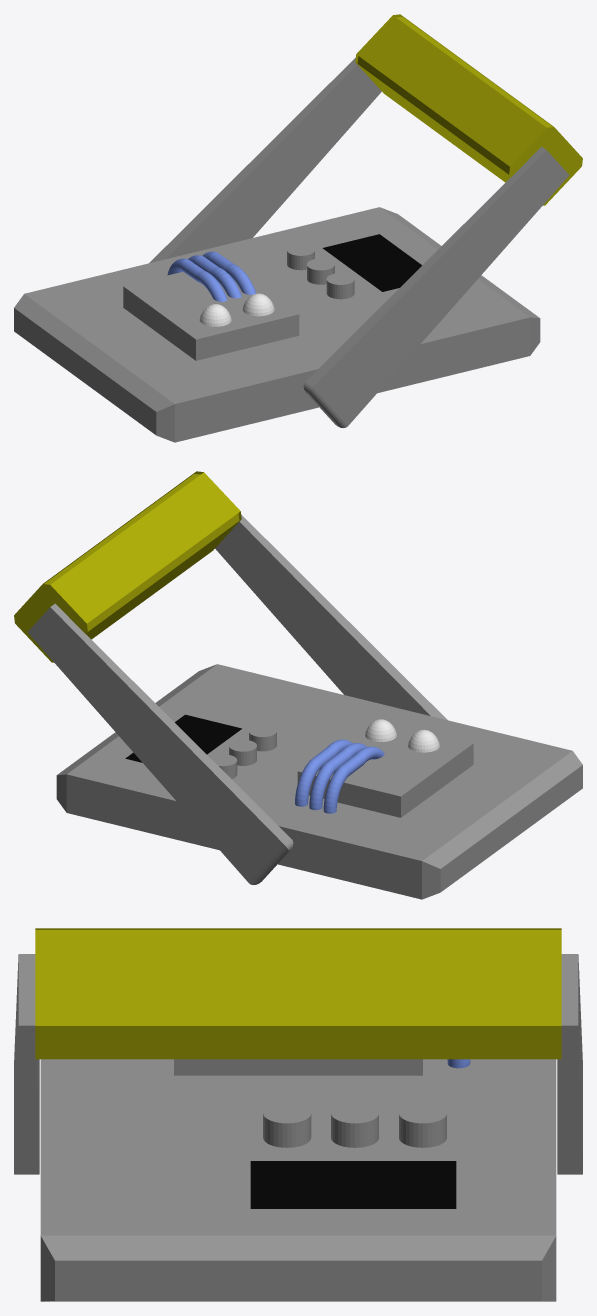
File: Lever2.fbx
3 views of the same model, one above another, from view 1: azimuth 30°, elevation 25°; view 2: azimuth 150°, elevation 25°; view 3: azimuth 270°, elevation 25° (orthographic). The views are drawn at different scales.
Parts seen in each view (by area): view 1: Lever2, Switch, ETC; view 2: Lever2, Switch, ETC; view 3: Lever2, Switch, ETC.
Part boxes in pixels (x1=…): Lever2: x1=14, y1=207, x2=540, y2=442; Switch: x1=149, y1=14, x2=582, y2=427; ETC: x1=123, y1=234, x2=421, y2=360; Lever2: x1=56, y1=664, x2=582, y2=899; Switch: x1=14, y1=471, x2=447, y2=884; ETC: x1=125, y1=714, x2=473, y2=817; Lever2: x1=40, y1=1059, x2=556, y2=1301; Switch: x1=14, y1=928, x2=582, y2=1174; ETC: x1=174, y1=1059, x2=470, y2=1208.
Bounding box in the file's own units: 1469 × 818 × 1006.
